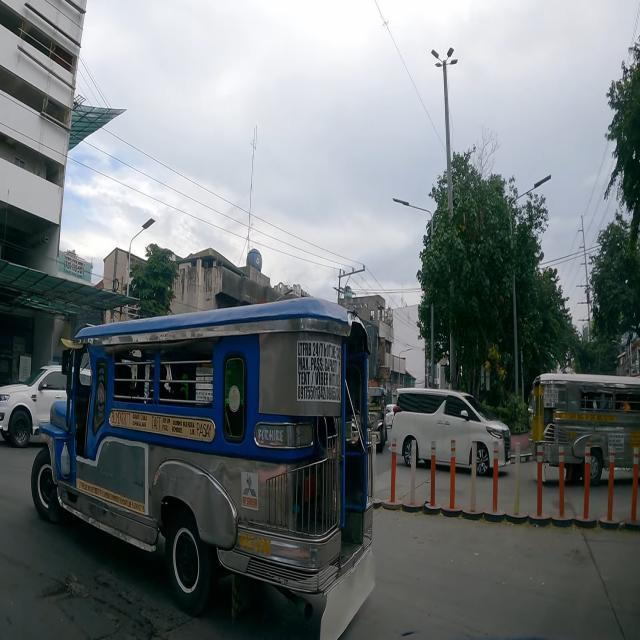car: (391, 388, 511, 476), (0, 365, 66, 447)
jeepney: (32, 298, 374, 640), (532, 373, 640, 484), (366, 386, 386, 452)
